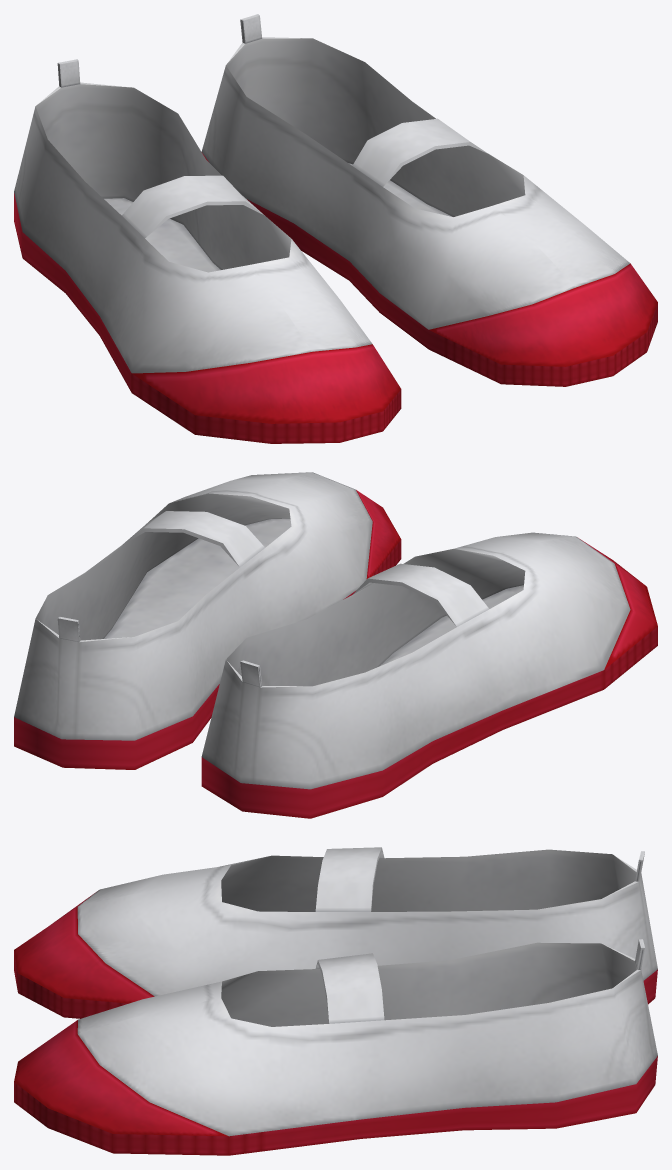
The model's file is set_indoorshoes_03_a.fbx.
The picture shows the model from 3 angles, top to bottom: view 1: azimuth 30°, elevation 25°; view 2: azimuth 150°, elevation 25°; view 3: azimuth 270°, elevation 25°; orthographic projection.
Parts seen in each view (by area): view 1: indoorshoes_03_a_R, indoorshoes_03_a_L; view 2: indoorshoes_03_a_L, indoorshoes_03_a_R; view 3: indoorshoes_03_a_R, indoorshoes_03_a_L.
Boxes of the visible parts, x1=… form: indoorshoes_03_a_R: x1=201, y1=14, x2=657, y2=386; indoorshoes_03_a_L: x1=14, y1=59, x2=401, y2=443; indoorshoes_03_a_L: x1=201, y1=532, x2=657, y2=818; indoorshoes_03_a_R: x1=14, y1=472, x2=401, y2=769; indoorshoes_03_a_R: x1=14, y1=939, x2=657, y2=1155; indoorshoes_03_a_L: x1=14, y1=847, x2=657, y2=1018.
Size of the model in its own units: 21.31 by 6.18 by 25.41.
